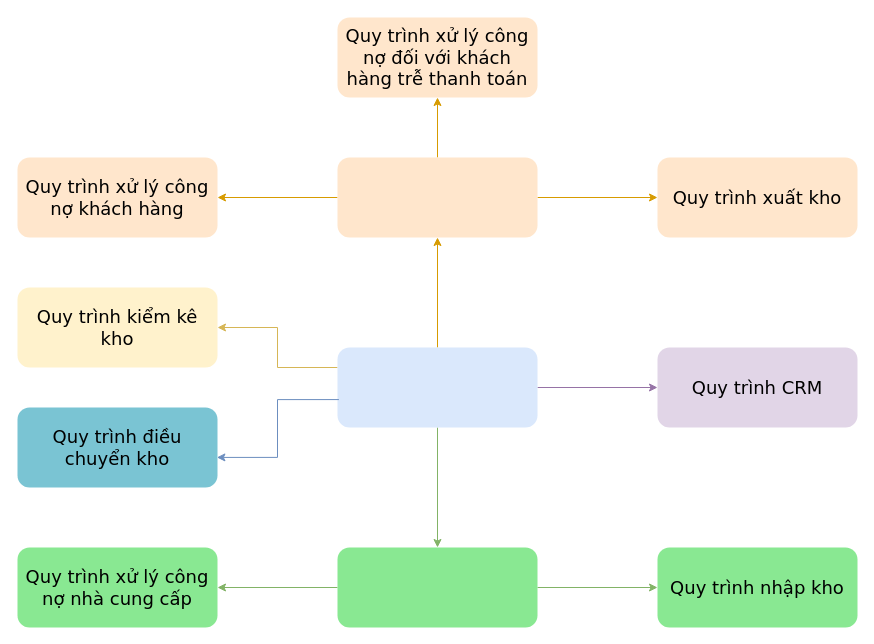
This 874x644 diagram has some shape labels left out. Each missing label, with the centre of its shape:
Mô hình ERP phân phối và bán lẻ đồ uống: point (437, 387)
Quy trình bán hàng: point (437, 197)
Quy trình mua hàng: point (437, 587)
